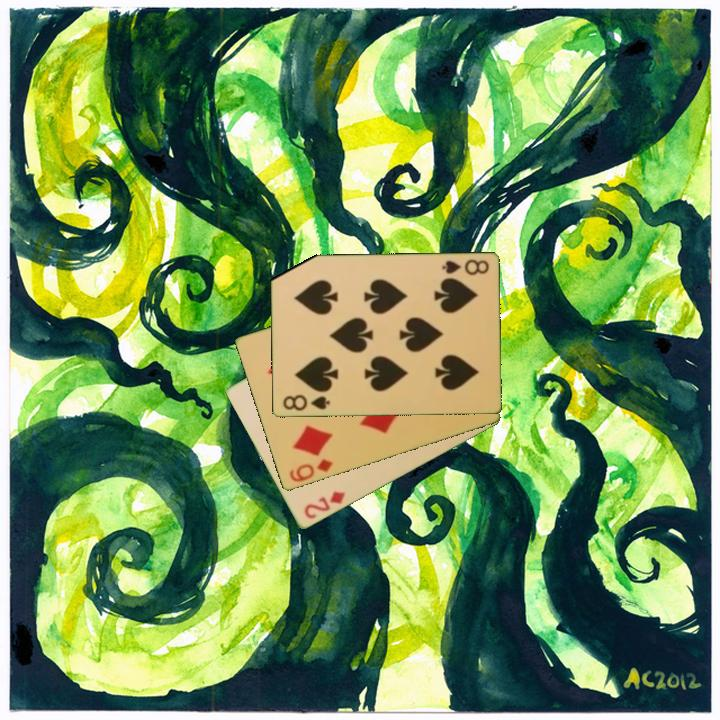2d: (300, 488, 348, 522)
6d: (285, 456, 335, 485)
8s: (279, 391, 332, 414), (438, 256, 492, 278)
